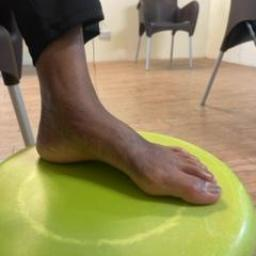Medial View -Left Foot-: (16, 64, 236, 221)
